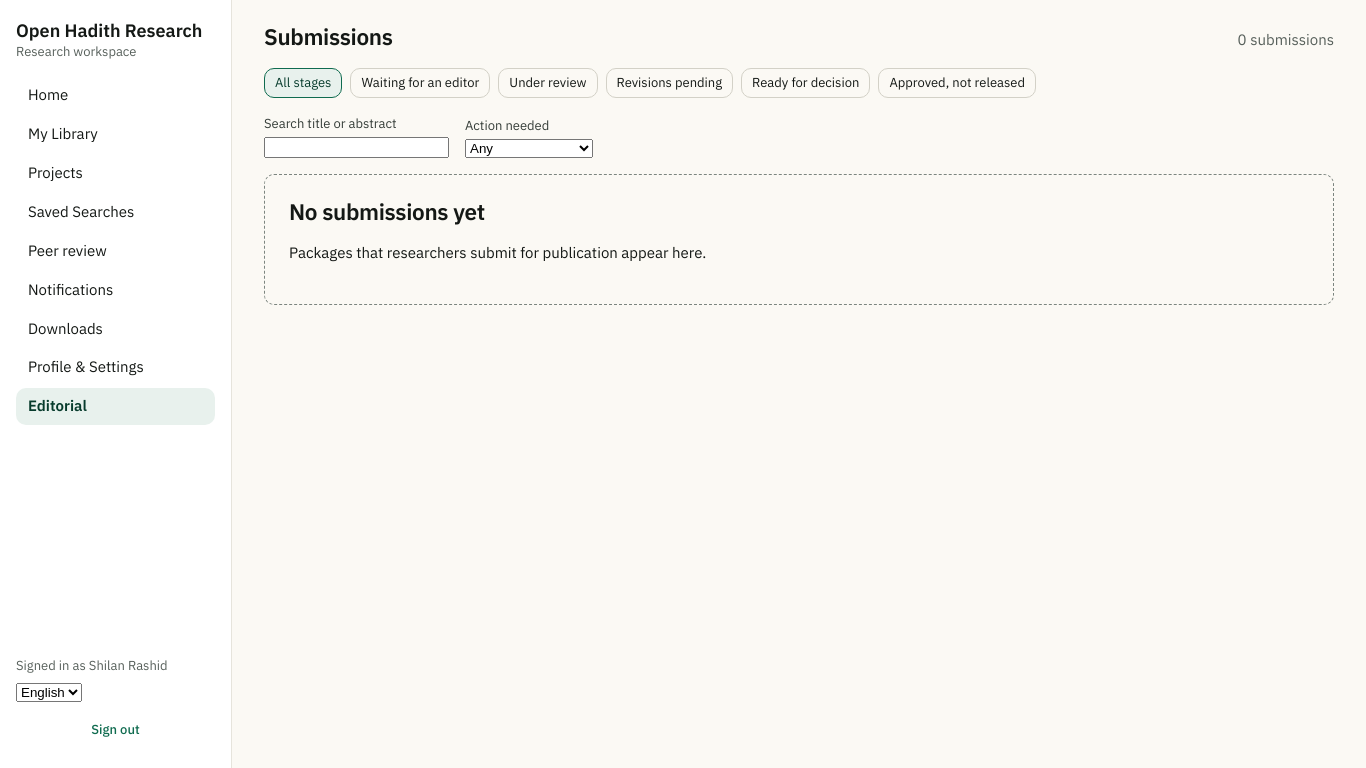
Test: Editorial console: queue › says there is nothing, and when filters match nothing
Expected: the heading "No submissions yet" is shown, [289, 196, 485, 229]
Click the button "Under review": [548, 83] box [498, 68, 598, 98]
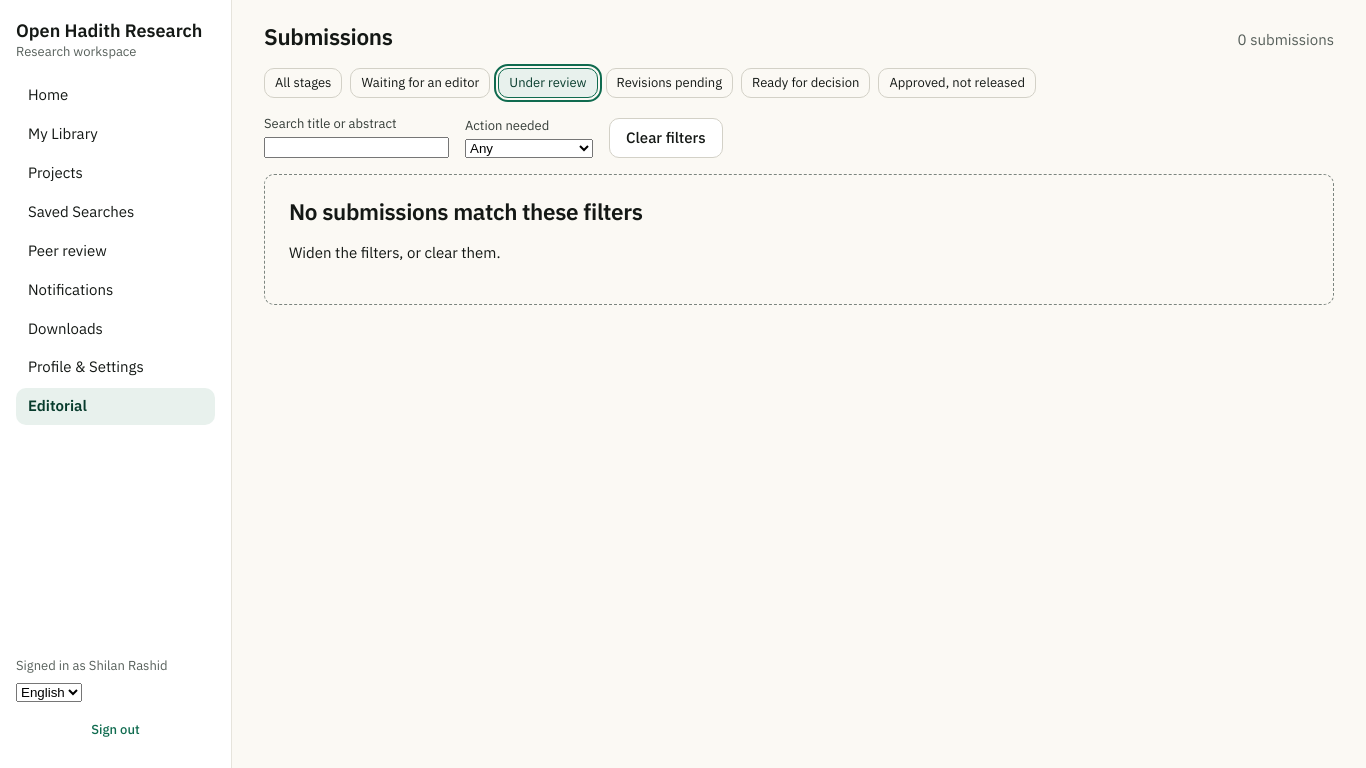
Expected: the heading "No submissions match these filters" is shown, [289, 196, 643, 229]
